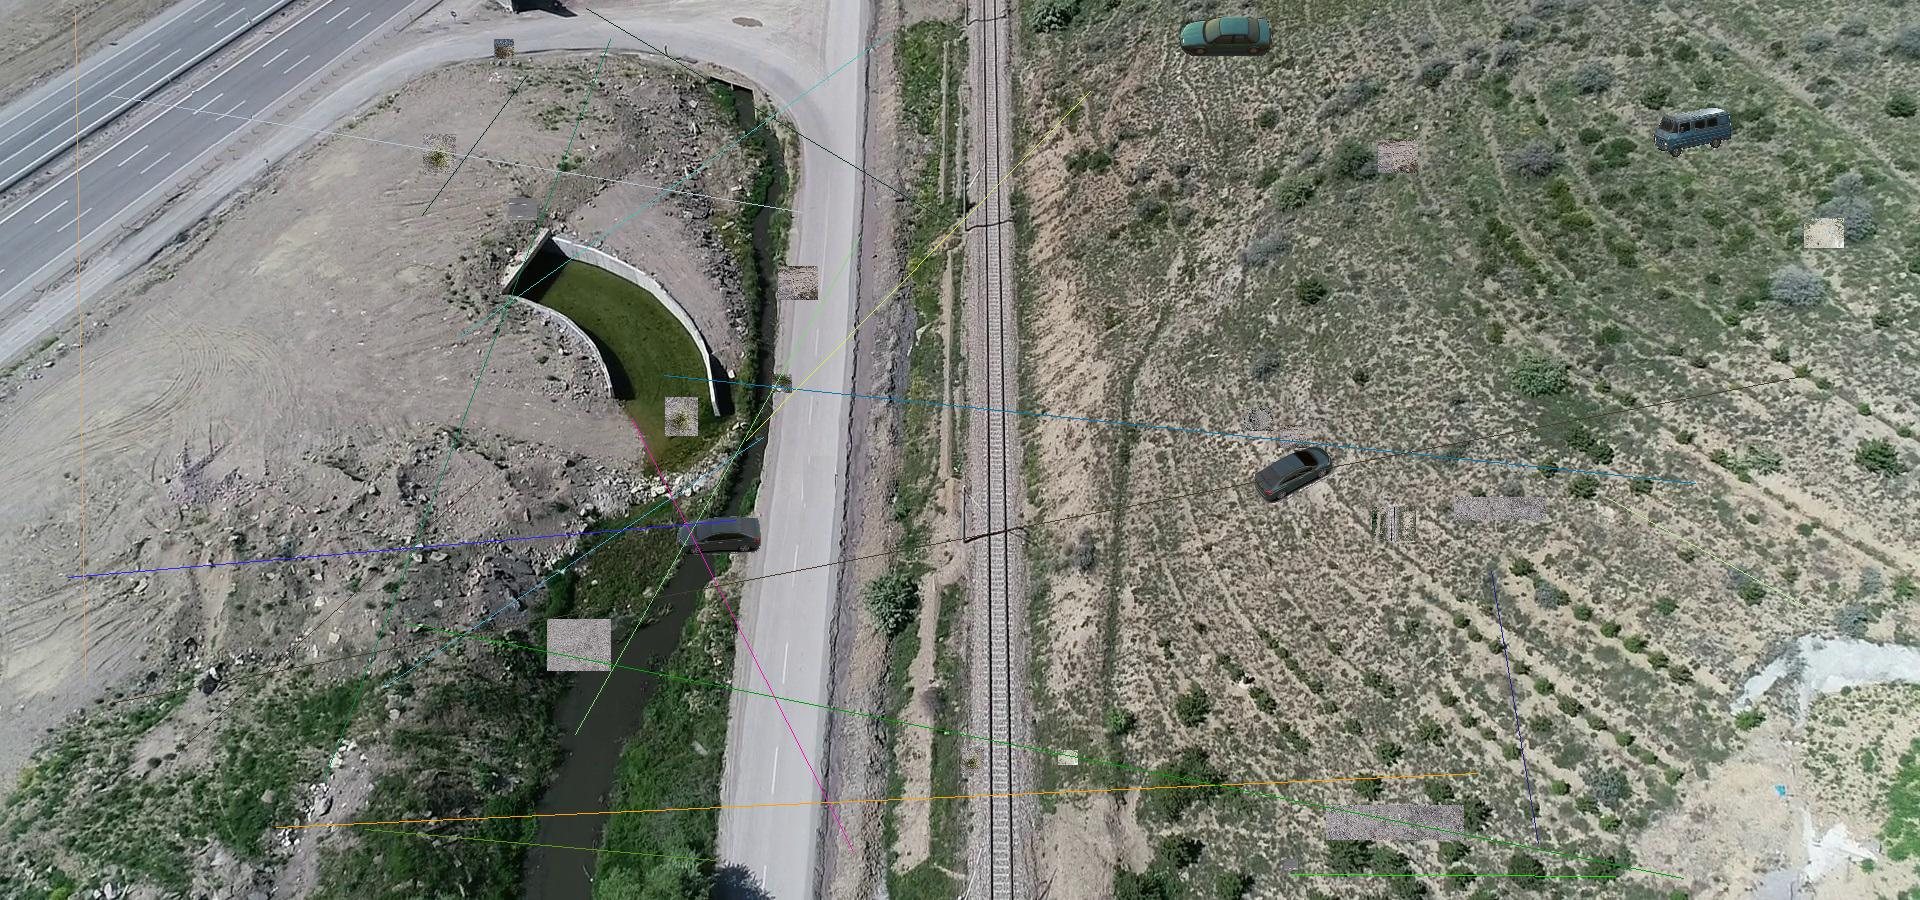arac: (1251, 444, 1335, 503), (1653, 108, 1731, 157), (1178, 17, 1273, 56), (676, 516, 763, 555)
